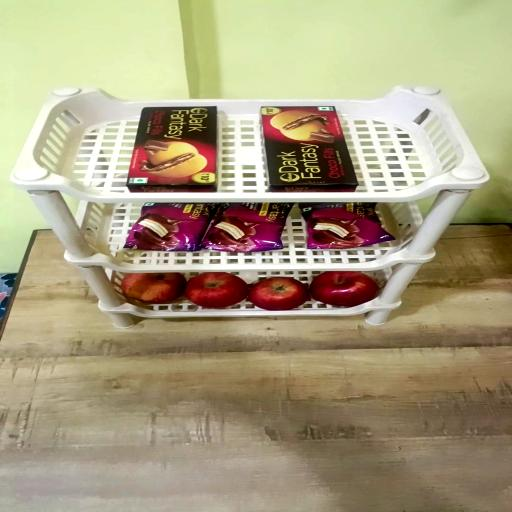Apple: (311, 272, 378, 308), (186, 273, 248, 309), (250, 278, 310, 312), (122, 274, 187, 304)
Choco Fills: (262, 104, 359, 191), (129, 104, 220, 190)
Choco Pie: (204, 204, 294, 254), (301, 205, 395, 251), (124, 205, 216, 252)
